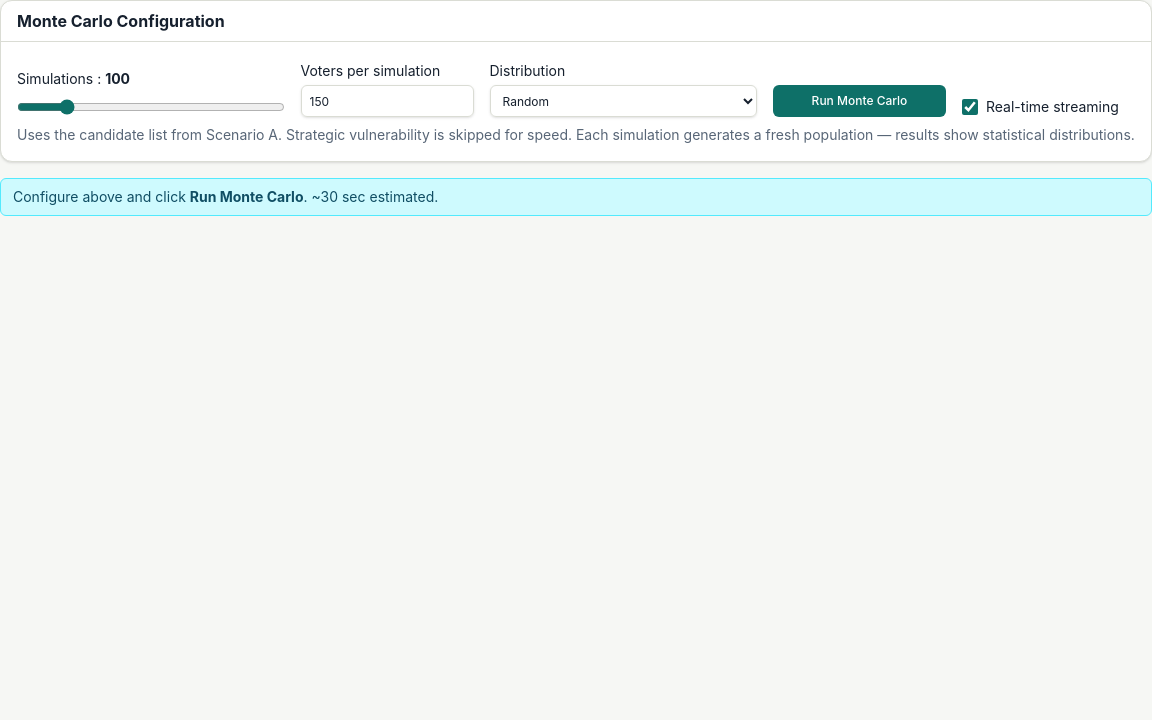
it: MonteCarloResults › renders results when getMonteCarlo resolves (standard mode)
Click the checkbox labelled "Real-time streaming": (970, 107) [962,99,978,115]
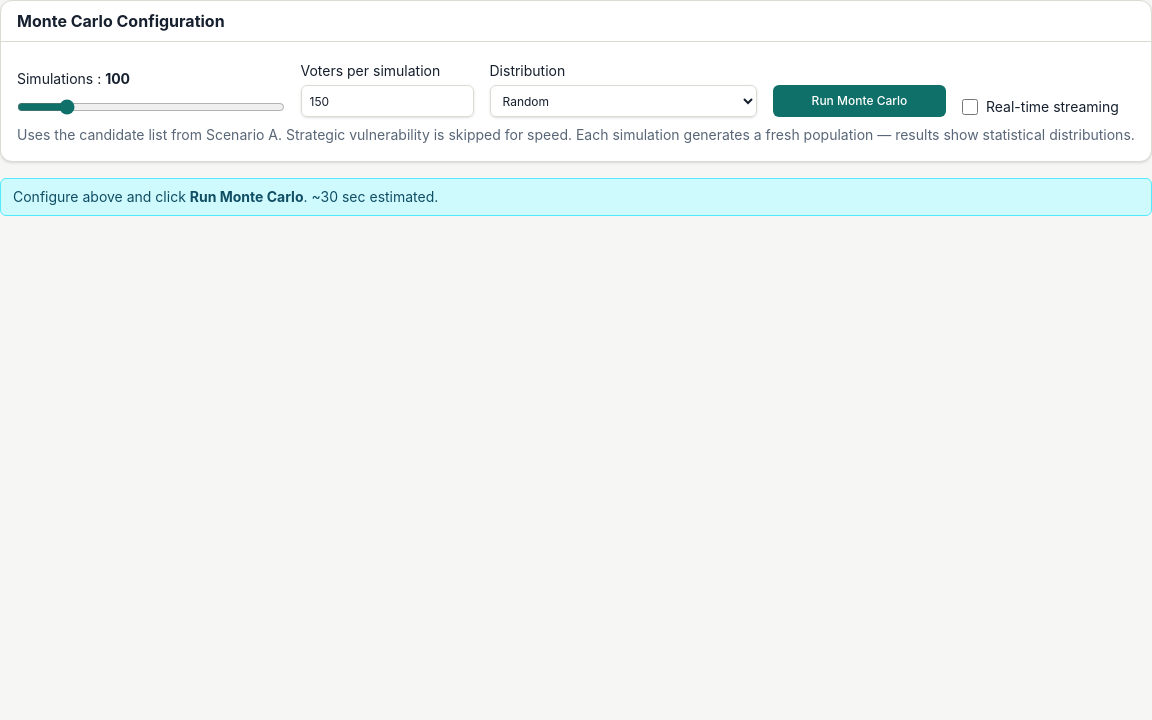
Click the button "Run Monte Carlo": (860, 101) [773,85,946,117]
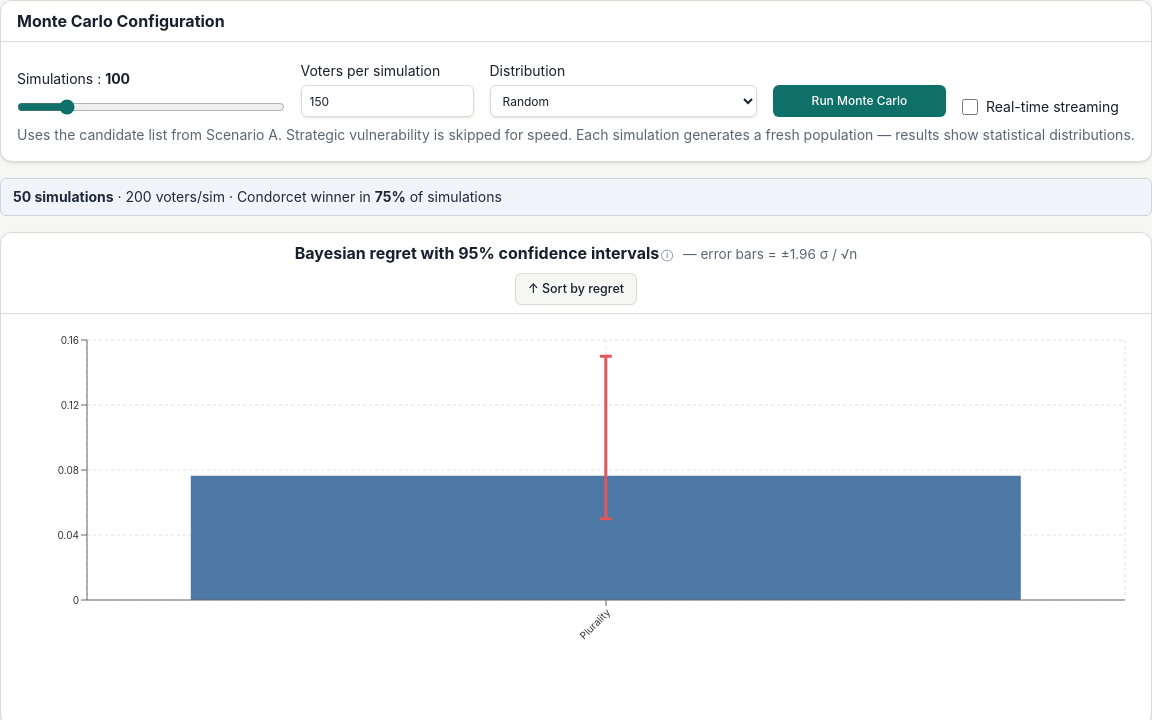
Now the text "50 simulations · 200 voters/sim · Condorcet winner in 75% of simulations" is shown, box [0,178,1151,216]
